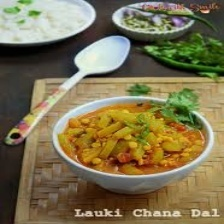sabzi: (54, 103, 209, 175)
